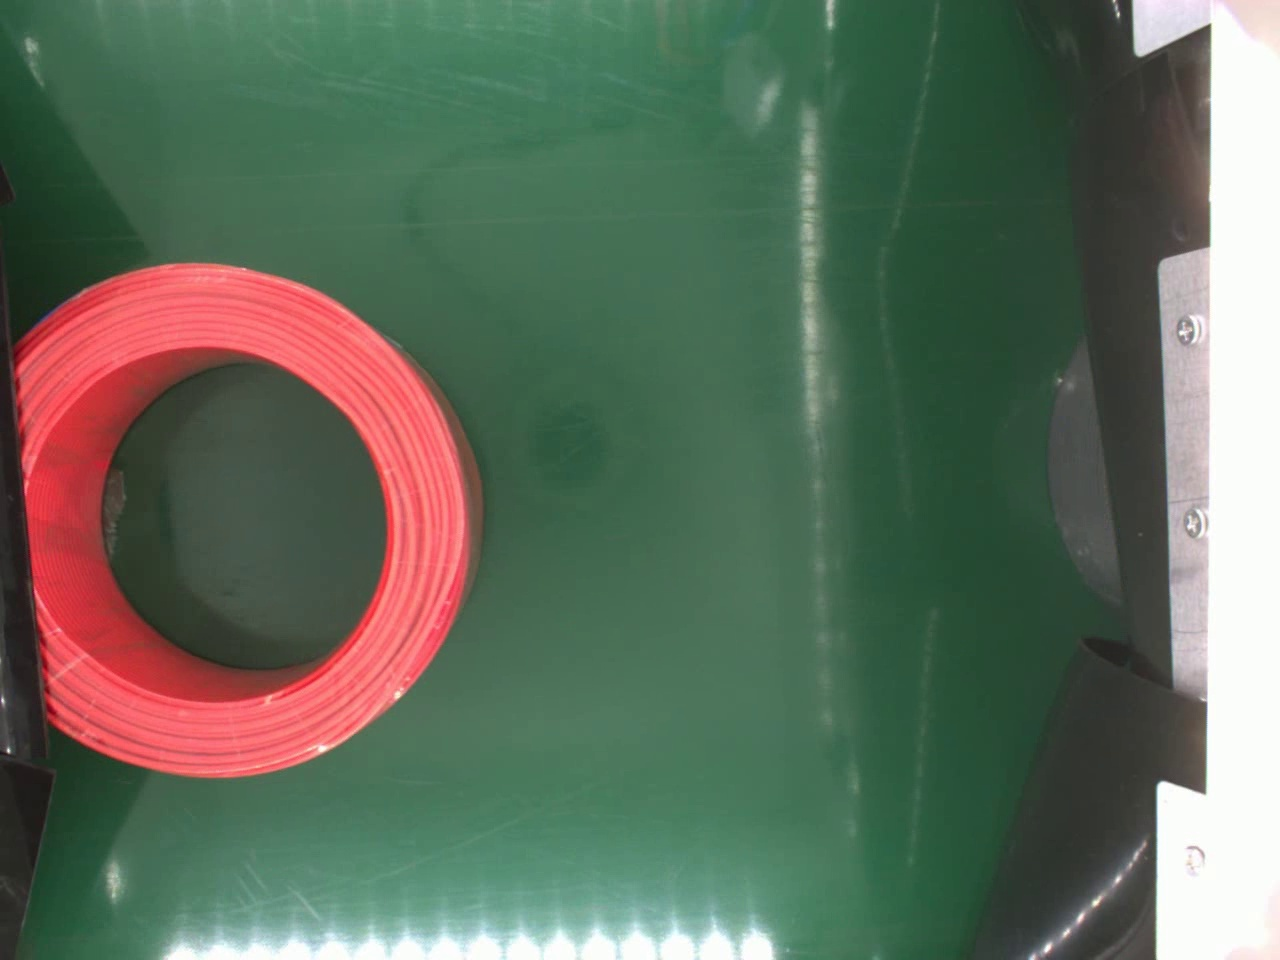red: (10, 262, 481, 782)
